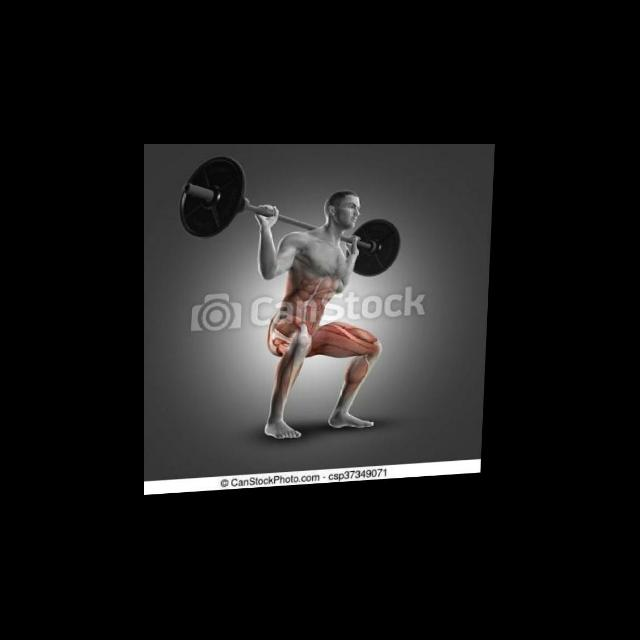barbell: (175, 156, 250, 241)
